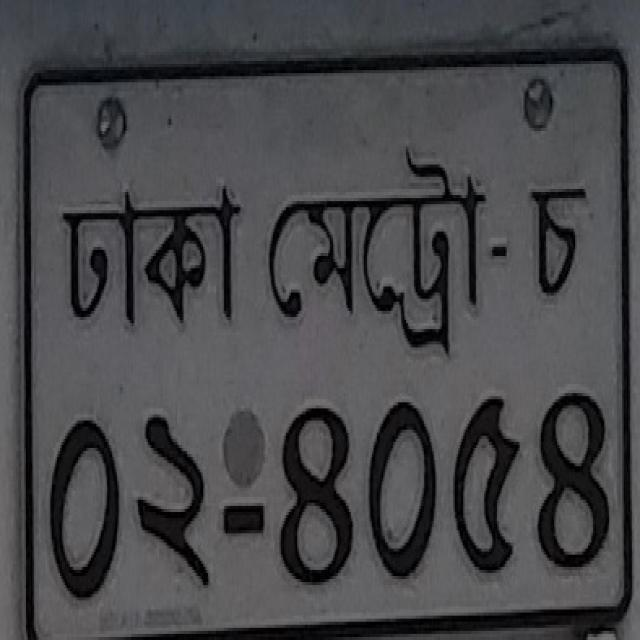cng: (267, 145, 488, 356)
numberplate: (17, 46, 632, 636)
